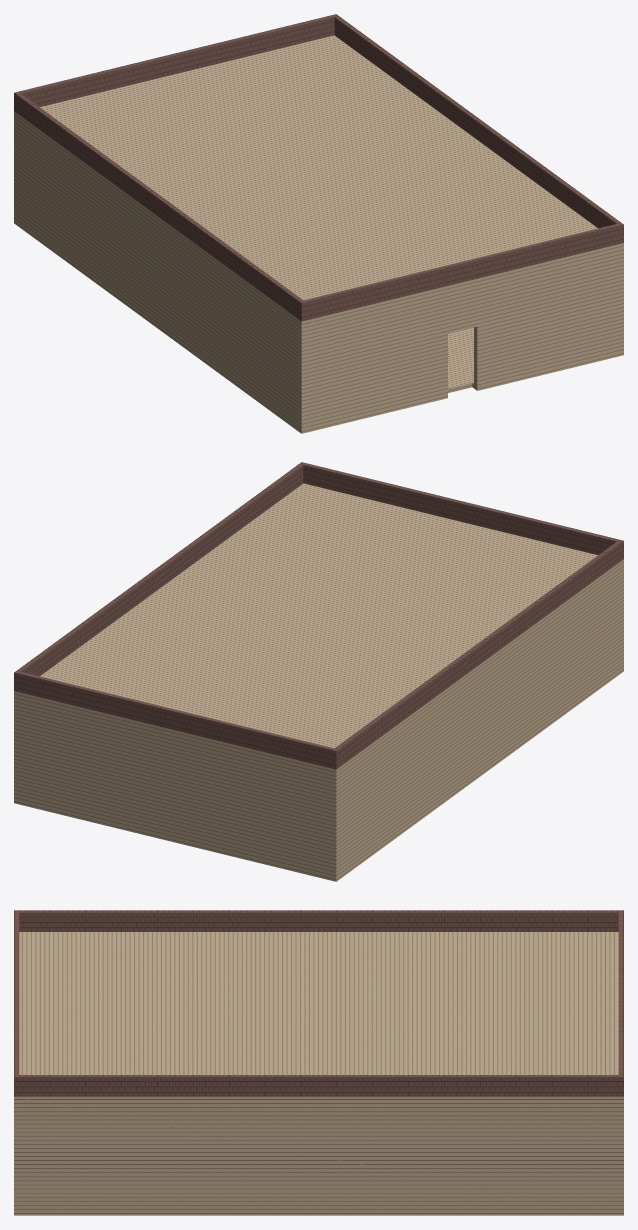
File: medical_dental_clinic.glb
3 renders of one model, top to bottom at view 1: azimuth 30°, elevation 25°; view 2: azimuth 150°, elevation 25°; view 3: azimuth 270°, elevation 25°, orthographic. The views are drawn at different scales.
Visible parts, largest first — view 1: medical_dental_clinic-col; view 2: medical_dental_clinic-col; view 3: medical_dental_clinic-col.
Boxes of the visible parts, x1,y1,x2,y2 form: medical_dental_clinic-col: (14,14,623,433); medical_dental_clinic-col: (14,462,623,881); medical_dental_clinic-col: (14,910,623,1215).
Bounding box in the file's own units: 11 × 4.26 × 17.
Materials: 2 (2 with a texture image).
